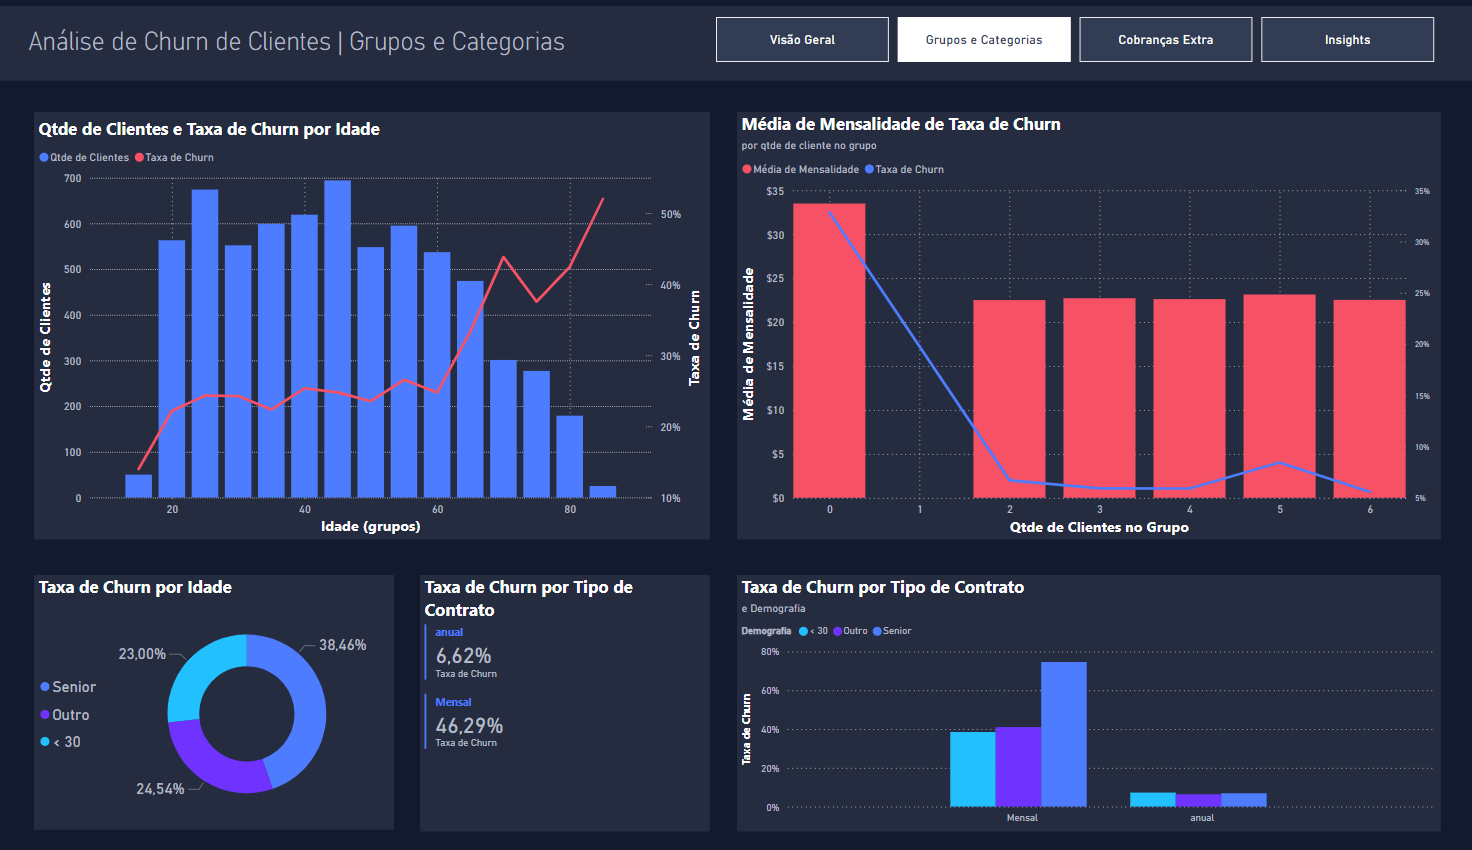

The page's visual inventory and layout, read from the dashboard file:
{"tool":"powerbi","page":{"name":"Grupos e Categorias","canvas":[1640,960],"ordinal":1},"visuals":[{"type":"lineStackedColumnComboChart","title":"Qtde de Clientes e Taxa de Churn por Idade","fields":{"Y":["_Measures.Number of Customers"],"Category":["Databel - Data.Age (bins)"],"Y2":["_Measures.Churn Rate"]},"box":[38.9,126.1,751.4,475],"z":0,"group":"g1"},{"type":"lineClusteredColumnComboChart","title":"Média de Mensalidade de Taxa de Churn","fields":{"Y2":["_Measures.Churn Rate"],"Y":["Avg(Databel - Data.Monthly Charge)"],"Category":["Databel - Data.Number of Customers in Group"]},"box":[819.4,126.1,781.9,475],"z":1000,"group":"g1"},{"type":"shape","box":[0,8,1640.2,83.1],"z":2000,"group":"g1"},{"type":"textbox","box":[28.3,24.3,651.1,57.6],"z":3000,"group":"g1"},{"type":"multiRowCard","title":"Taxa de Churn por Tipo de Contrato","fields":{"Values":["Databel - Data.Contract Category","_Measures.Churn Rate"]},"box":[468.1,639.9,322.2,284.7],"z":4000,"group":"g1"},{"type":"clusteredColumnChart","title":"Taxa de Churn por Tipo de Contrato","fields":{"Y":["_Measures.Churn Rate"],"Category":["Databel - Data.Contract Category"],"Series":["Databel - Data.Demographics"]},"box":[819.4,639.9,781.9,284.7],"z":5000,"group":"g1"},{"type":"donutChart","title":"Taxa de Churn por Idade","fields":{"Y":["_medidas.Taxa de Churn"],"Category":["telecom_data.Demografia"]},"box":[38.9,639.9,400,283.3],"z":6000,"group":"g1"},{"type":"pageNavigator","box":[796.7,19.7,800,50],"z":7000,"group":"g1"},{"type":"group","id":"g1","title":"Group 1","box":[0,8,1640.2,916.7],"z":7001}]}

Visuals, with their boxes in screenshot pixels (x1, y1, x2, y2), scaled from the page's 1640x960 canvas onto the 1472x850 screenshot:
"Qtde de Clientes e Taxa de Churn por Idade" lineStackedColumnComboChart: select_region(35, 112, 709, 532)
"Média de Mensalidade de Taxa de Churn" lineClusteredColumnComboChart: select_region(735, 112, 1437, 532)
shape: select_region(0, 7, 1471, 81)
textbox: select_region(25, 22, 610, 73)
"Taxa de Churn por Tipo de Contrato" multiRowCard: select_region(420, 567, 709, 819)
"Taxa de Churn por Tipo de Contrato" clusteredColumnChart: select_region(735, 567, 1437, 819)
"Taxa de Churn por Idade" donutChart: select_region(35, 567, 394, 817)
pageNavigator: select_region(715, 17, 1433, 62)
"Group 1" group: select_region(0, 7, 1471, 819)
